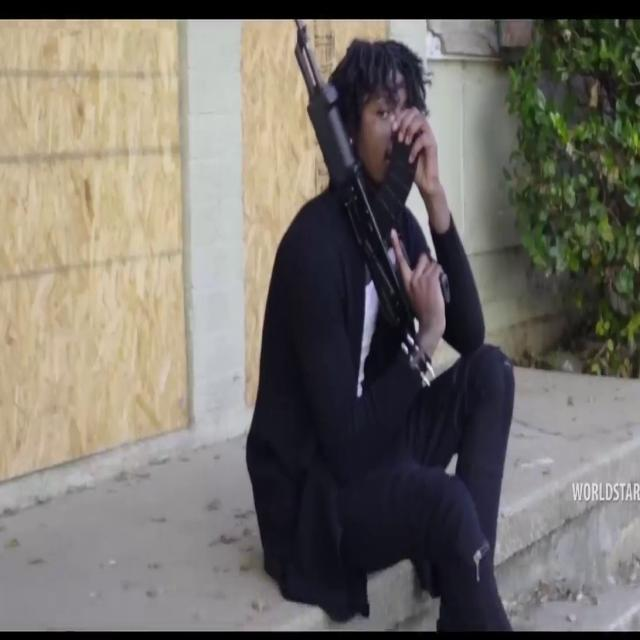Rifle: (291, 24, 435, 376)
